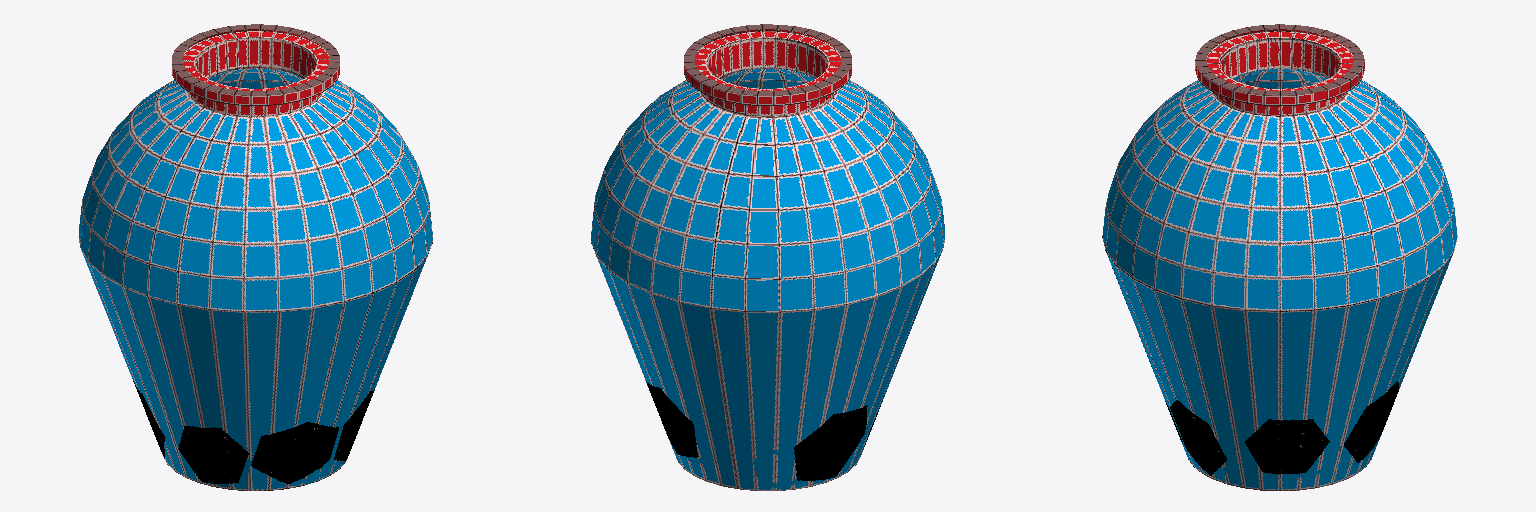
The picture shows the model from 3 angles: view 1: azimuth 30°, elevation 25°; view 2: azimuth 150°, elevation 25°; view 3: azimuth 270°, elevation 25°; orthographic projection.
Visible parts, largest first — view 1: Sphere; view 2: Sphere; view 3: Sphere.
Boxes of the visible parts, x1,y1,x2,y2 form: Sphere: [79, 24, 432, 490]; Sphere: [591, 24, 944, 490]; Sphere: [1102, 24, 1457, 490].
Bounding box in the file's own units: 0.12 × 0.146 × 0.12.
Materials: 1 (1 with a texture image).